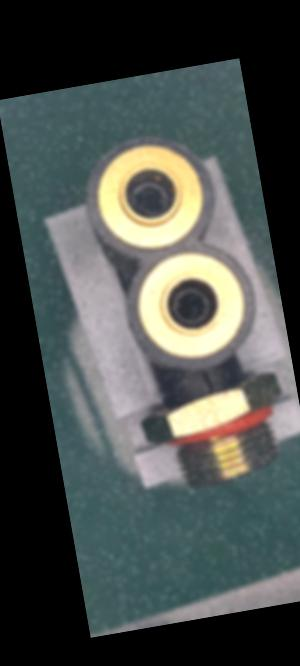craze: (196, 366, 215, 398)
off-centered: (120, 174, 171, 223)
